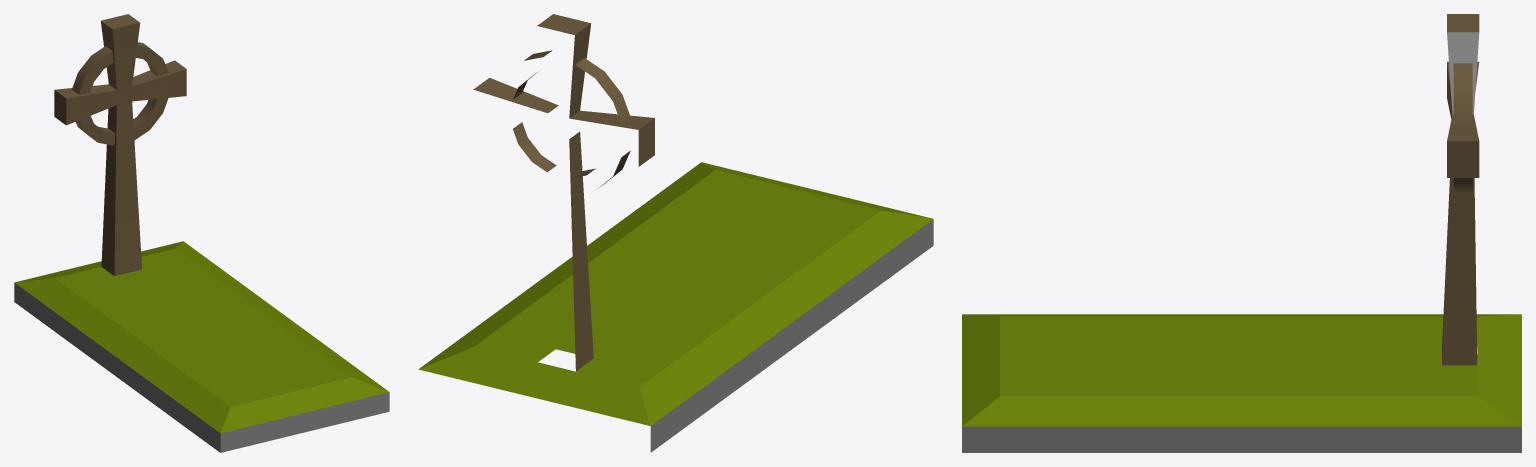
The model's file is TombWithCelticCross.glb.
3 renders of one model, left to right at view 1: azimuth 30°, elevation 25°; view 2: azimuth 150°, elevation 25°; view 3: azimuth 270°, elevation 25°, orthographic. The views are drawn at different scales.
Visible parts, largest first — view 1: TombWithCelticCross; view 2: TombWithCelticCross; view 3: TombWithCelticCross.
Part boxes in pixels (x1=…): TombWithCelticCross: x1=14, y1=14, x2=389, y2=452; TombWithCelticCross: x1=418, y1=14, x2=933, y2=452; TombWithCelticCross: x1=962, y1=14, x2=1521, y2=452.
Bounding box in the file's own units: 0.9 × 1.4 × 1.9.
